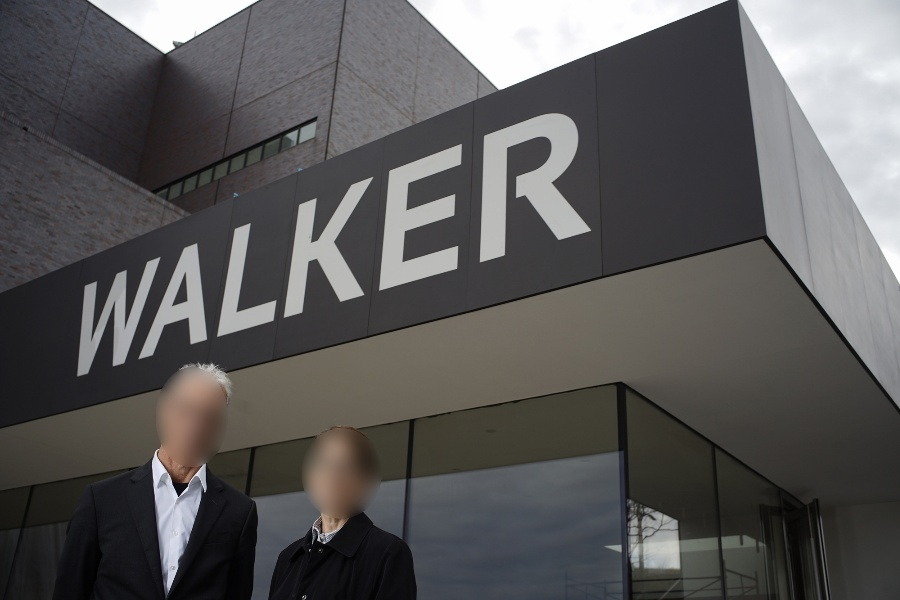text: (97, 99, 112, 379), (113, 99, 128, 379), (129, 99, 144, 379), (145, 99, 160, 379), (161, 99, 176, 379), (177, 99, 192, 379), (193, 99, 208, 379), (209, 99, 224, 379), (225, 99, 240, 379), (241, 99, 256, 379), (257, 99, 272, 379), (273, 99, 288, 379), (289, 99, 304, 379), (305, 99, 320, 379), (321, 99, 336, 379), (337, 99, 352, 379), (353, 99, 368, 379), (369, 99, 384, 379), (385, 99, 400, 379), (401, 99, 416, 379), (417, 99, 432, 379), (433, 99, 448, 379), (449, 99, 464, 379), (465, 99, 480, 379), (481, 99, 496, 379), (497, 99, 512, 379), (513, 99, 528, 379), (529, 99, 544, 379), (545, 99, 560, 379), (561, 99, 576, 379), (577, 99, 592, 379), (82, 99, 96, 379), (593, 99, 603, 379)
